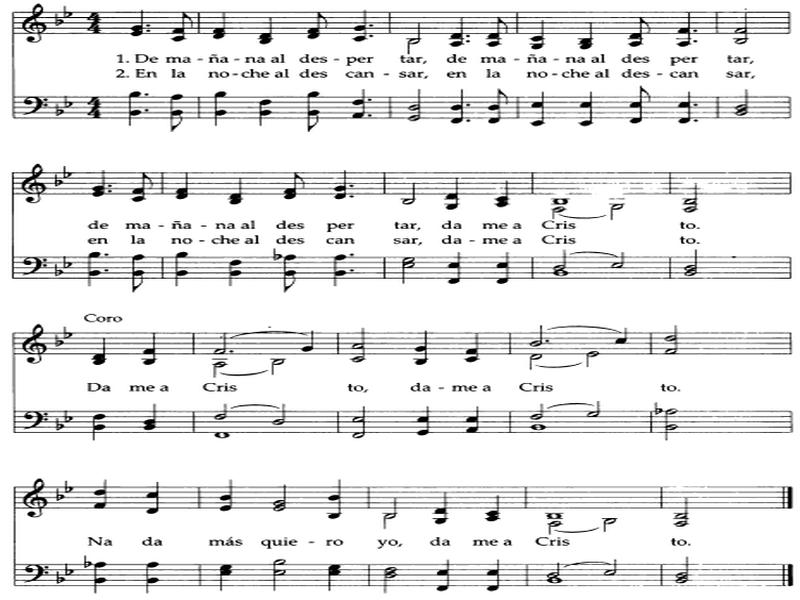B: (727, 4, 753, 50), (399, 88, 428, 128), (668, 495, 699, 527), (268, 476, 292, 516), (684, 173, 707, 214), (350, 320, 370, 367), (663, 322, 686, 359), (270, 555, 292, 591), (679, 248, 704, 278), (398, 174, 419, 209), (351, 404, 371, 440), (676, 552, 697, 584), (665, 403, 683, 440), (208, 325, 229, 354), (402, 252, 417, 292), (269, 403, 294, 427), (608, 197, 629, 224), (733, 88, 753, 115), (380, 564, 398, 592), (526, 320, 543, 348), (405, 20, 424, 44), (550, 249, 569, 270), (604, 560, 622, 581), (602, 510, 617, 535), (208, 402, 228, 420), (384, 493, 399, 517), (403, 36, 425, 52), (613, 246, 627, 271), (380, 513, 396, 532), (269, 355, 282, 378), (528, 354, 544, 371), (587, 403, 605, 418), (586, 352, 599, 372), (546, 561, 562, 577), (543, 522, 564, 534), (210, 361, 224, 375), (547, 206, 564, 217)
Bem: (60, 404, 76, 424), (60, 476, 75, 495), (60, 251, 73, 269), (63, 325, 76, 343), (52, 103, 67, 118), (50, 334, 64, 350), (271, 247, 283, 264), (54, 415, 65, 432), (61, 94, 73, 109), (55, 568, 65, 586), (60, 164, 71, 180), (53, 489, 63, 505), (51, 13, 62, 27), (653, 402, 664, 415), (56, 263, 63, 282), (53, 174, 61, 189), (63, 4, 70, 21), (65, 564, 74, 577), (80, 555, 90, 566)
C: (270, 166, 314, 205), (122, 252, 149, 301), (128, 165, 157, 208), (161, 5, 191, 46), (304, 4, 333, 44), (626, 12, 656, 49), (300, 87, 324, 133), (627, 85, 652, 125), (483, 16, 510, 50), (487, 87, 508, 129), (282, 252, 301, 293), (165, 94, 184, 134)
CF: (23, 546, 53, 588), (18, 397, 49, 434), (21, 86, 49, 122), (22, 244, 48, 281)
CS: (18, 155, 46, 208), (24, 467, 50, 524), (22, 318, 47, 373), (23, 1, 48, 50)
N: (447, 327, 485, 365), (419, 558, 459, 593), (524, 9, 556, 52), (215, 471, 246, 514), (324, 470, 350, 520), (429, 484, 459, 527), (136, 322, 164, 367), (439, 167, 467, 211), (140, 468, 165, 515), (89, 475, 117, 515), (488, 252, 517, 290), (207, 89, 232, 132), (86, 333, 115, 370), (227, 171, 254, 210), (526, 85, 551, 127), (412, 326, 435, 371), (118, 85, 141, 129), (249, 90, 273, 132), (342, 84, 367, 124), (137, 556, 163, 594), (574, 88, 598, 129), (669, 85, 692, 127), (167, 164, 191, 204), (407, 401, 436, 434), (324, 249, 347, 289), (445, 82, 464, 129), (256, 3, 277, 45), (348, 6, 368, 50), (210, 559, 235, 593), (459, 405, 487, 435), (676, 2, 693, 50), (477, 492, 501, 526), (485, 557, 507, 594), (223, 256, 246, 291), (444, 13, 467, 47), (91, 556, 112, 593), (443, 254, 465, 289), (82, 250, 101, 290), (83, 412, 110, 440), (494, 177, 515, 211), (214, 5, 232, 44), (577, 18, 598, 51), (89, 164, 107, 202), (331, 160, 347, 202), (324, 559, 344, 592), (128, 4, 145, 41), (141, 404, 159, 435), (300, 325, 318, 354), (173, 250, 187, 287), (619, 325, 629, 345)
P: (144, 20, 157, 34), (727, 247, 739, 262), (106, 181, 116, 199), (139, 105, 154, 116), (140, 88, 154, 99), (347, 192, 361, 203), (691, 114, 700, 129), (465, 100, 476, 111), (368, 19, 377, 29), (366, 111, 375, 121), (101, 266, 110, 276), (103, 249, 110, 261), (348, 254, 358, 262), (348, 182, 357, 190), (368, 32, 375, 41), (348, 267, 357, 274), (367, 94, 373, 103), (692, 101, 701, 107), (546, 336, 552, 345), (467, 117, 473, 124)
R: (214, 427, 233, 443), (545, 578, 567, 588), (531, 422, 549, 433), (550, 272, 570, 280)
